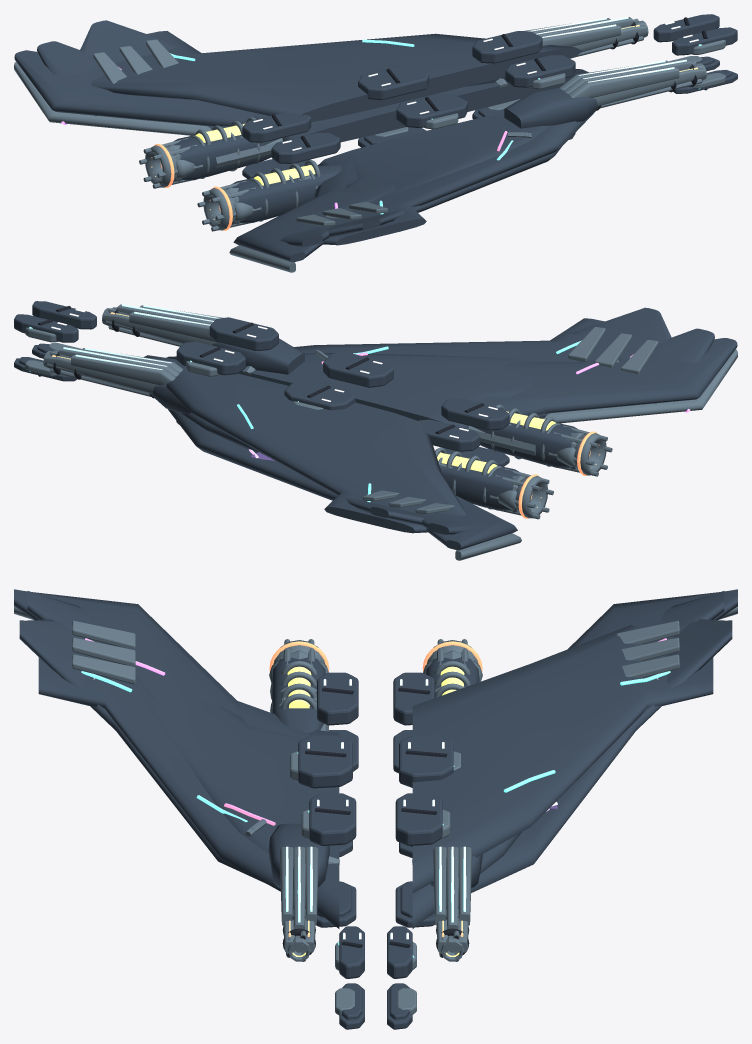
File: spectre.glb
3 renders of one model, top to bottom at view 1: azimuth 30°, elevation 25°; view 2: azimuth 150°, elevation 25°; view 3: azimuth 270°, elevation 25°, orthographic. The views are drawn at different scales.
Visible parts, largest first — view 1: w_vane Fitting gunmetal, w_razor Fitting gunmetal, p_heavy Fitting gunmetal, w_phantom Fitting gunmetal, w_prism Fitting gunmetal, m_array Brushed fitting edges, w_phantom Brushed fitting edges, e_twin Fitting gunmetal, e_nova Brushed fitting edges, m_heavy Fitting gunmetal, w_vane Brushed fitting edges, p_light Brushed fitting edges (+10 smaller); view 2: w_vane Fitting gunmetal, p_heavy Fitting gunmetal, w_razor Fitting gunmetal, w_phantom Fitting gunmetal, w_prism Fitting gunmetal, m_array Brushed fitting edges, w_phantom Brushed fitting edges, e_nova Brushed fitting edges, w_vane Brushed fitting edges, e_twin Fitting gunmetal, m_heavy Fitting gunmetal, m_siege Brushed fitting edges (+9 smaller); view 3: w_vane Fitting gunmetal, p_heavy Fitting gunmetal, w_razor Fitting gunmetal, w_prism Fitting gunmetal, w_phantom Fitting gunmetal, w_vane Brushed fitting edges, m_array Brushed fitting edges, e_fusion Brushed fitting edges, p_light Brushed fitting edges, m_heavy Fitting gunmetal, e_twin Fitting gunmetal, m_array m_array emitter (+10 smaller).
Boxes of the visible parts, bbox=[...] form: w_vane Fitting gunmetal: bbox=[91, 31, 595, 245]; w_razor Fitting gunmetal: bbox=[37, 41, 588, 246]; p_heavy Fitting gunmetal: bbox=[242, 14, 737, 178]; w_phantom Fitting gunmetal: bbox=[14, 50, 560, 262]; w_prism Fitting gunmetal: bbox=[80, 20, 561, 237]; m_array Brushed fitting edges: bbox=[524, 17, 691, 97]; w_phantom Brushed fitting edges: bbox=[14, 62, 295, 272]; e_twin Fitting gunmetal: bbox=[190, 135, 341, 219]; e_nova Brushed fitting edges: bbox=[139, 138, 261, 231]; m_heavy Fitting gunmetal: bbox=[466, 77, 599, 128]; w_vane Brushed fitting edges: bbox=[93, 39, 387, 226]; p_light Brushed fitting edges: bbox=[374, 40, 725, 136]; w_vane Fitting gunmetal: bbox=[143, 318, 636, 533]; p_heavy Fitting gunmetal: bbox=[14, 301, 509, 466]; w_razor Fitting gunmetal: bbox=[166, 328, 714, 534]; w_phantom Fitting gunmetal: bbox=[239, 338, 737, 550]; w_prism Fitting gunmetal: bbox=[168, 307, 671, 525]; m_array Brushed fitting edges: bbox=[58, 304, 223, 385]; w_phantom Brushed fitting edges: bbox=[455, 349, 737, 560]; e_nova Brushed fitting edges: bbox=[490, 425, 612, 519]; w_vane Brushed fitting edges: bbox=[363, 327, 658, 514]; e_twin Fitting gunmetal: bbox=[440, 422, 561, 507]; m_heavy Fitting gunmetal: bbox=[151, 338, 304, 414]; m_siege Brushed fitting edges: bbox=[44, 307, 215, 393]; w_vane Fitting gunmetal: bbox=[38, 625, 713, 913]; p_heavy Fitting gunmetal: bbox=[298, 672, 453, 1029]; w_razor Fitting gunmetal: bbox=[27, 591, 724, 928]; w_prism Fitting gunmetal: bbox=[19, 619, 732, 892]; w_phantom Fitting gunmetal: bbox=[14, 589, 737, 723]; w_vane Brushed fitting edges: bbox=[72, 620, 679, 684]; m_array Brushed fitting edges: bbox=[280, 847, 471, 929]; e_fusion Brushed fitting edges: bbox=[279, 650, 472, 709]; p_light Brushed fitting edges: bbox=[290, 751, 460, 1014]; m_heavy Fitting gunmetal: bbox=[268, 823, 482, 887]; e_twin Fitting gunmetal: bbox=[272, 670, 478, 732]; m_array m_array emitter: bbox=[285, 846, 466, 922].
Size of the model in its own units: 58.16 by 7.52 by 47.24.
